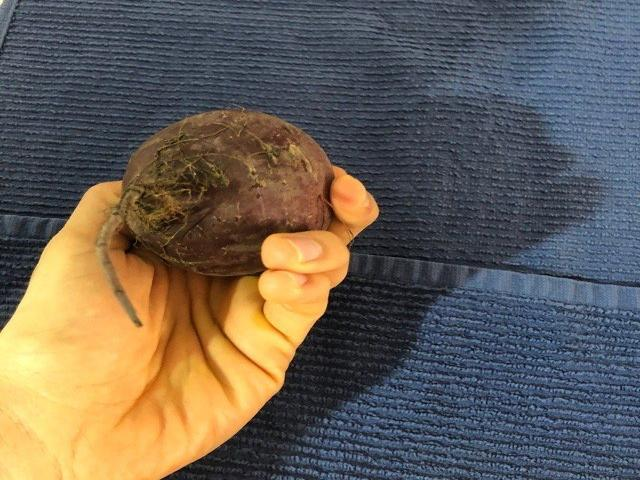beet: (98, 111, 333, 330)
